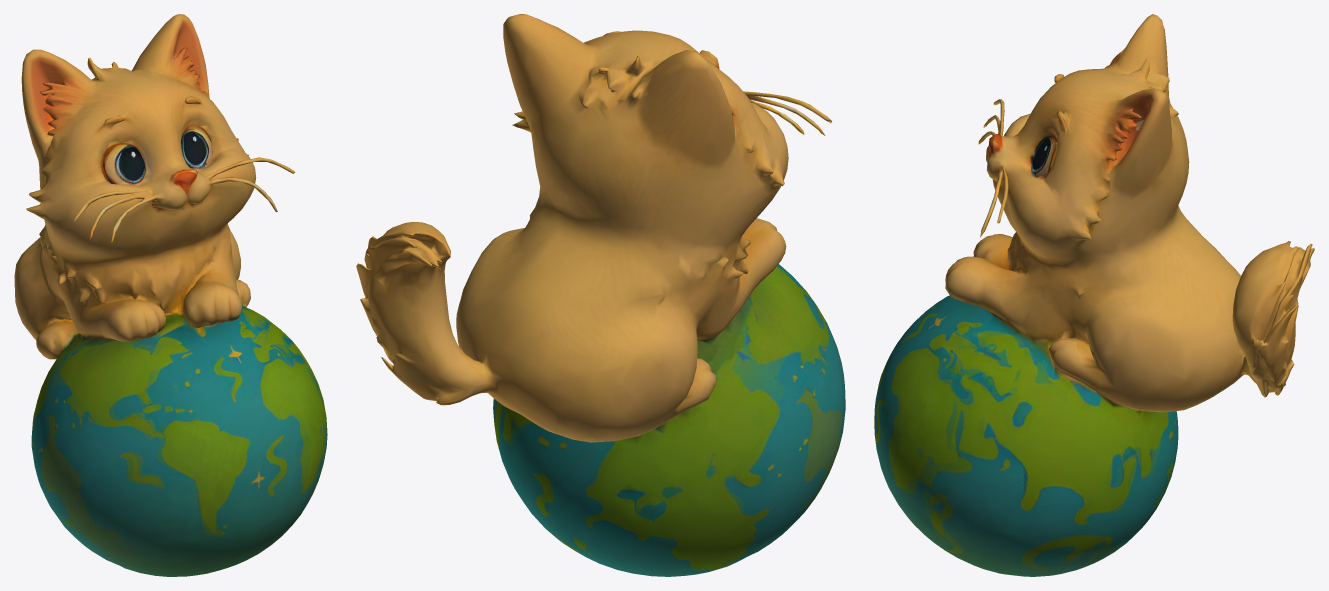
File: bommieGirl.glb
The picture shows the model from 3 angles, left to right: view 1: azimuth 30°, elevation 25°; view 2: azimuth 150°, elevation 25°; view 3: azimuth 270°, elevation 25°; orthographic projection. The views are drawn at different scales.
Visible parts, largest first — view 1: TripoModel (3); view 2: TripoModel (3); view 3: TripoModel (3).
Part boxes in pixels (<box>): TripoModel (3): <box>14,14,327,576</box>; TripoModel (3): <box>356,14,845,576</box>; TripoModel (3): <box>874,14,1314,576</box>.
Size of the model in its own units: 0.5604 by 0.9778 by 0.7725.
Materials: 1 (1 with a texture image).
